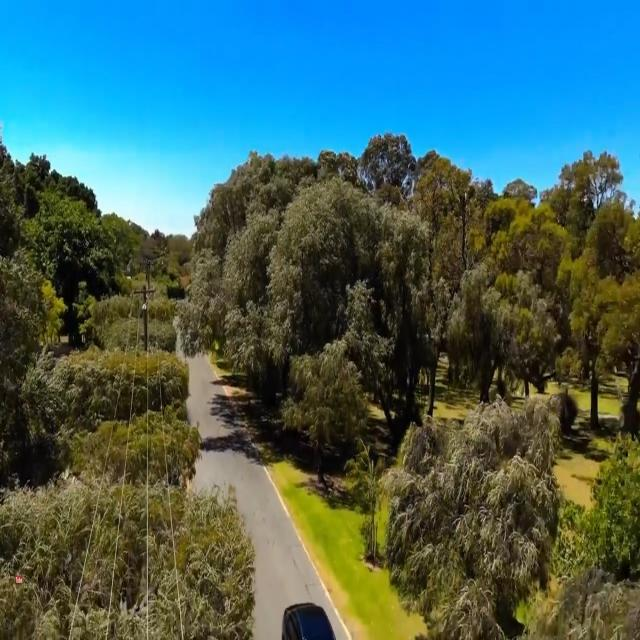Pole: (141, 282, 151, 356), (143, 257, 154, 291)
Tree: (192, 144, 432, 493), (386, 395, 565, 640), (0, 469, 244, 640), (442, 169, 546, 420), (555, 158, 634, 438), (34, 340, 190, 464), (0, 255, 61, 489), (0, 169, 100, 282), (566, 438, 640, 589), (80, 407, 196, 491), (85, 278, 171, 353)
Vehicle: (279, 597, 342, 640)
